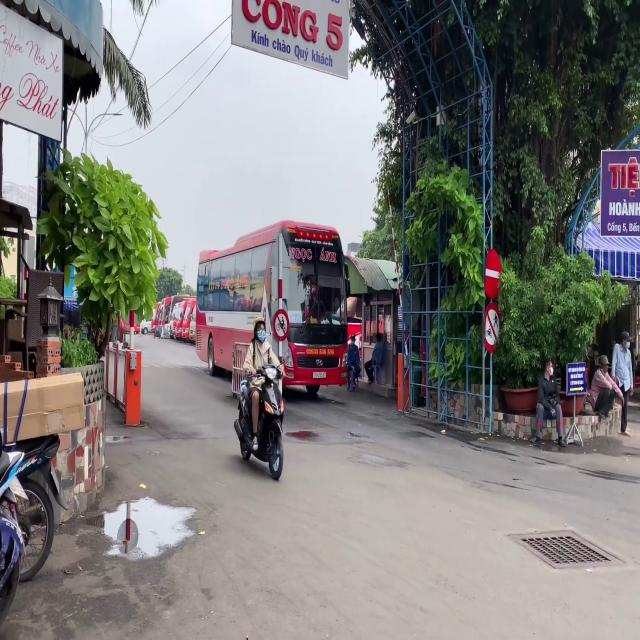bien_trang: (313, 371, 326, 378)
